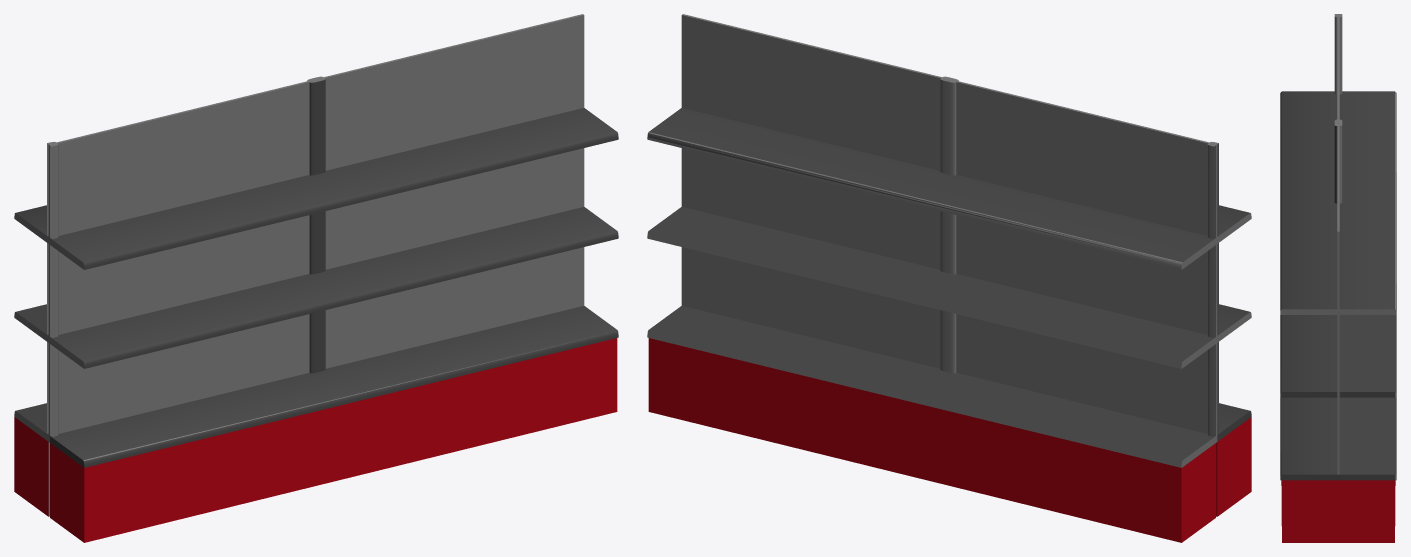
Rendered from Shelter_Empty(Textured).glb.
The picture shows the model from 3 angles, left to right: view 1: azimuth 30°, elevation 25°; view 2: azimuth 150°, elevation 25°; view 3: azimuth 270°, elevation 25°; orthographic projection. The views are drawn at different scales.
Parts seen in each view (by area): view 1: Stagger_Large.001_M_SUpermarket_0; view 2: Stagger_Large.001_M_SUpermarket_0; view 3: Stagger_Large.001_M_SUpermarket_0.
Boxes of the visible parts, x1,y1,x2,y2 form: Stagger_Large.001_M_SUpermarket_0: (14, 14, 618, 542); Stagger_Large.001_M_SUpermarket_0: (647, 14, 1251, 542); Stagger_Large.001_M_SUpermarket_0: (1280, 14, 1396, 542).
Size of the model in its own units: 8.81 by 5.87 by 1.99.
